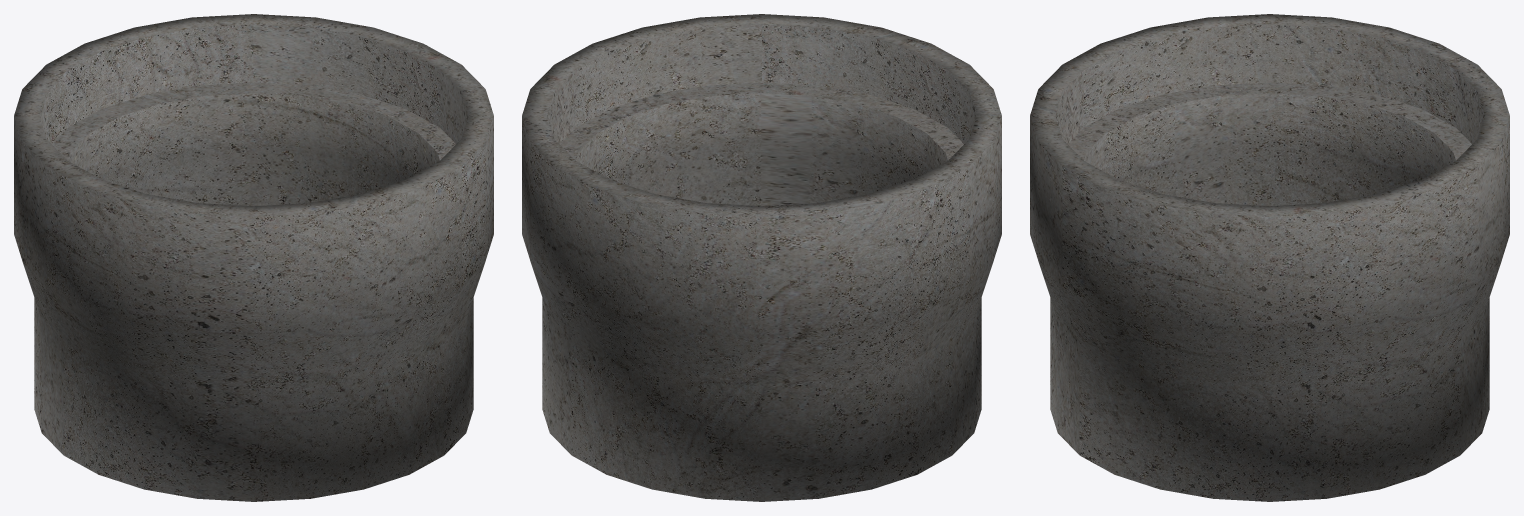
File: concrete_pipe_joiner.dae
3 renders of one model, left to right at view 1: azimuth 30°, elevation 25°; view 2: azimuth 150°, elevation 25°; view 3: azimuth 270°, elevation 25°, orthographic.
Parts seen in each view (by area): view 1: Y; view 2: Y; view 3: Y.
Part boxes in pixels (box(x1,y1,x2,y2)): Y: box(14, 14, 493, 501); Y: box(522, 14, 1001, 501); Y: box(1030, 14, 1509, 501).
Bounding box in the file's own units: 0.4751 × 0.4751 × 0.3209.
1 material, 1 textured.
